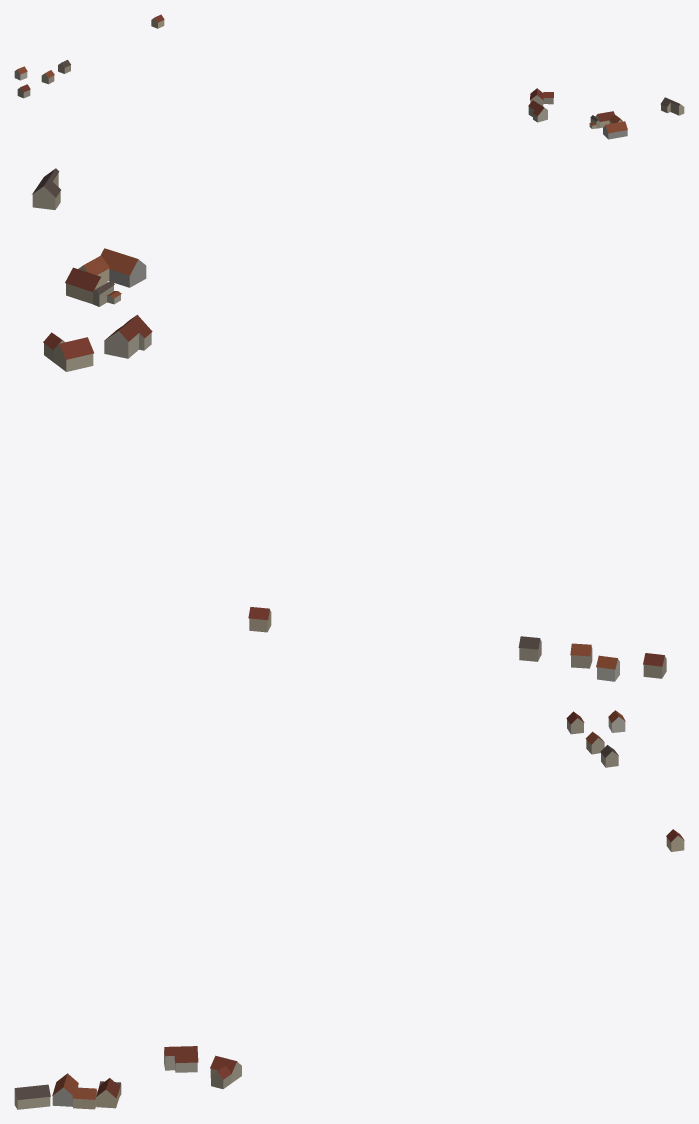
3 views of the same model, one above another, from view 1: azimuth 30°, elevation 25°; view 2: azimuth 150°, elevation 25°; view 3: azimuth 270°, elevation 25° (orthographic). The views are drawn at different scales.
Parts seen in each view (by area): view 1: buildings; view 2: buildings; view 3: buildings.
Part boxes in pixels (bbox=[...]): buildings: bbox=[14, 14, 684, 139]; buildings: bbox=[32, 168, 666, 681]; buildings: bbox=[14, 710, 684, 1109].
Size of the model in its own units: 474 by 38.45 by 359.
